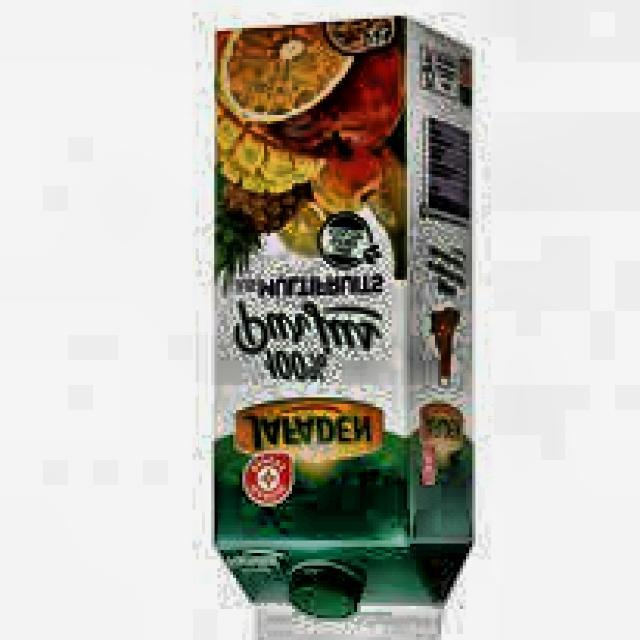cardboard: (208, 19, 475, 640)
